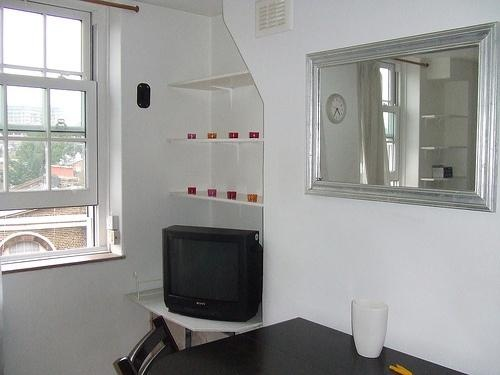chair: (117, 316, 180, 375)
diningtable: (143, 319, 468, 375)
tvmonitor: (163, 223, 265, 321)
